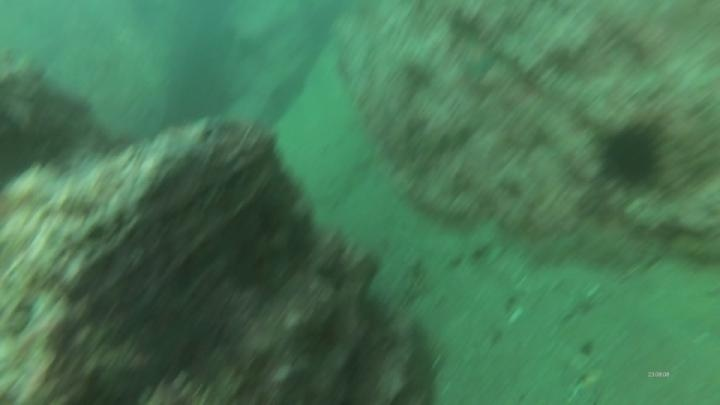echinus: (593, 117, 672, 194)
starfish: (453, 32, 502, 85)
